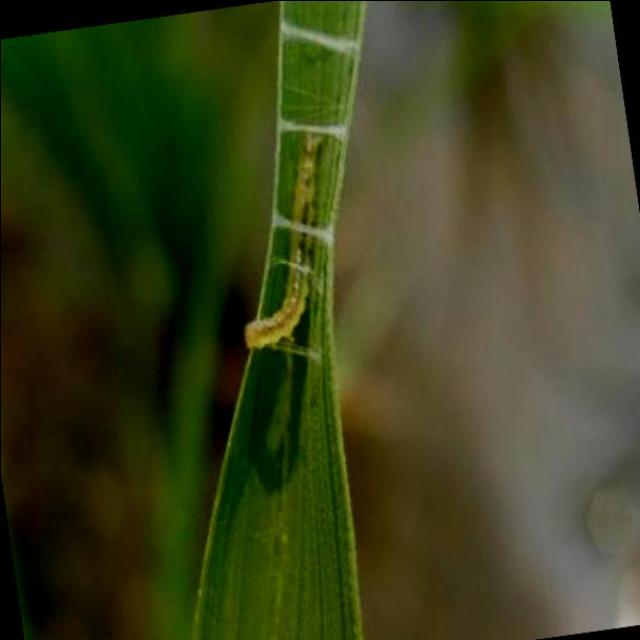leaf folder: (245, 248, 312, 348)
